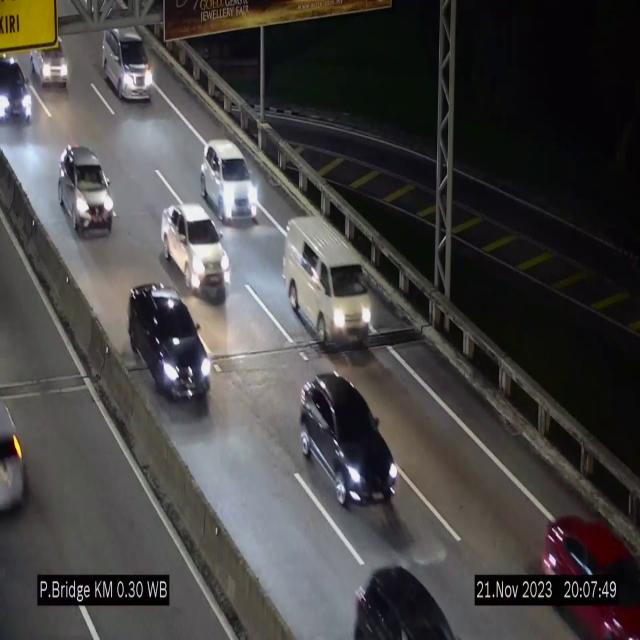Car: (300, 373, 398, 507), (283, 217, 372, 348), (128, 283, 210, 407), (161, 204, 229, 298), (58, 145, 114, 235), (201, 140, 259, 222), (102, 26, 154, 100)
